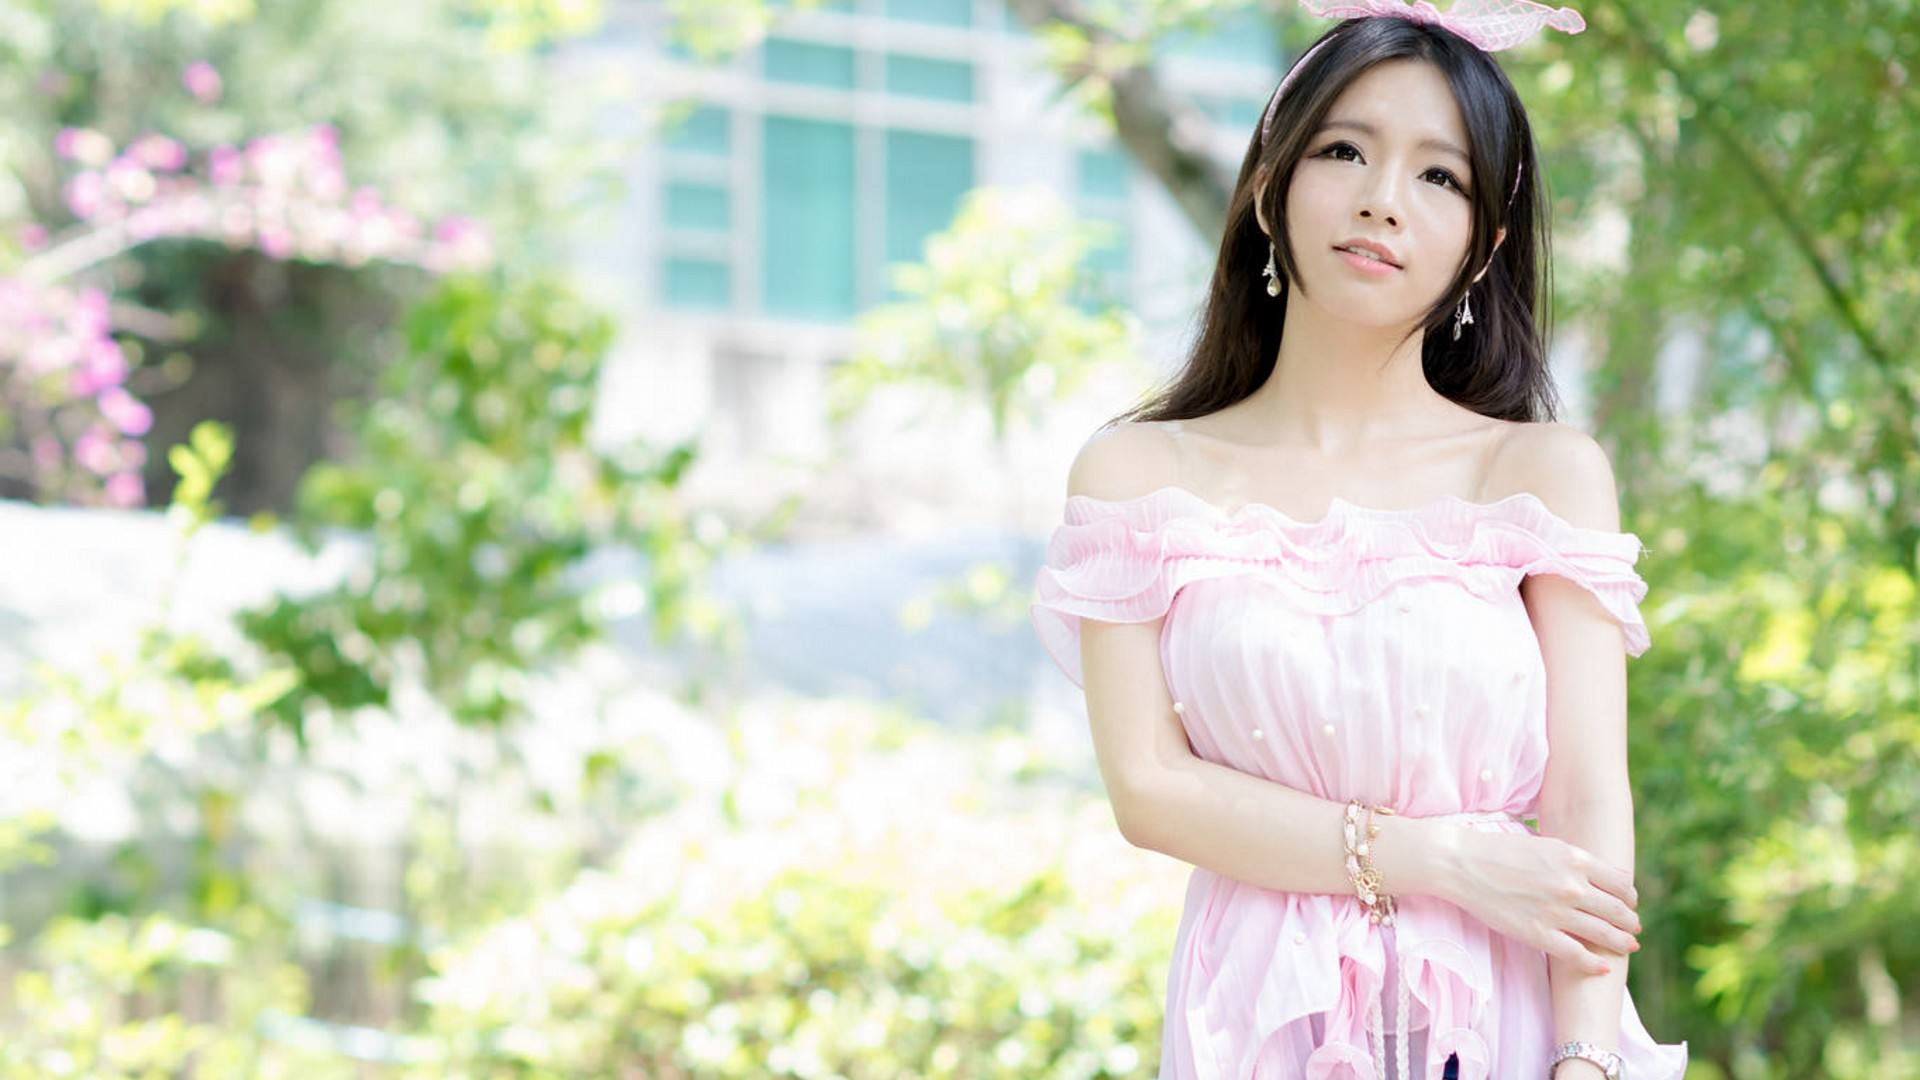person: (1057, 35, 1680, 1050)
